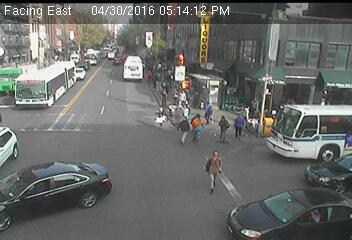neg: (267, 168, 289, 198), (166, 199, 185, 225), (40, 193, 59, 218), (304, 175, 322, 198), (37, 150, 54, 173), (76, 96, 93, 118), (152, 159, 169, 181), (279, 32, 295, 52), (63, 122, 78, 143), (6, 110, 20, 130), (11, 160, 25, 180), (248, 12, 262, 31), (6, 56, 20, 74), (113, 131, 126, 149), (173, 11, 186, 29), (129, 12, 142, 30), (49, 49, 62, 67), (291, 130, 304, 148), (306, 83, 319, 101), (138, 131, 151, 149), (79, 207, 92, 225), (123, 71, 136, 88), (35, 73, 48, 90), (80, 12, 93, 29), (91, 73, 104, 90), (33, 112, 45, 129), (2, 22, 14, 39), (223, 40, 235, 56), (77, 56, 88, 71), (43, 15, 54, 29), (315, 115, 326, 129), (325, 41, 335, 55), (114, 175, 124, 188), (253, 69, 262, 81), (247, 154, 256, 166), (123, 98, 131, 108), (81, 164, 88, 173), (209, 29, 214, 36), (296, 61, 301, 68)
pos: (196, 148, 229, 193), (186, 112, 206, 139), (214, 114, 234, 140), (229, 112, 248, 138), (173, 116, 192, 141), (202, 101, 219, 123), (153, 105, 169, 126)
